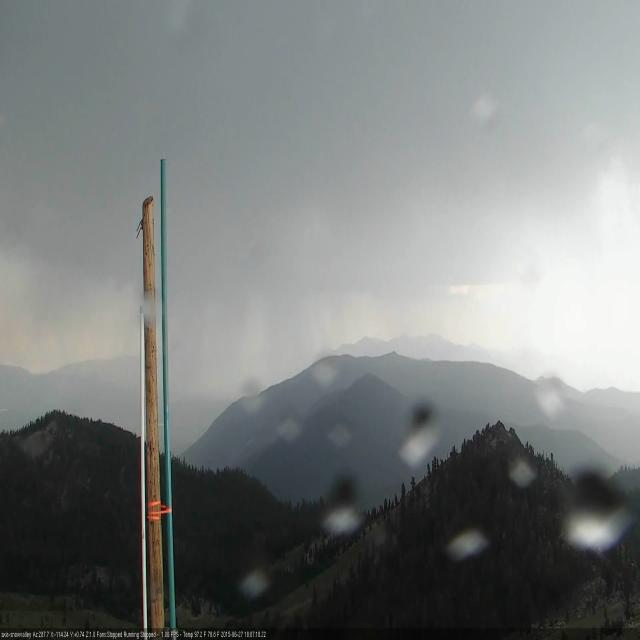smoke: (246, 436, 253, 446)
